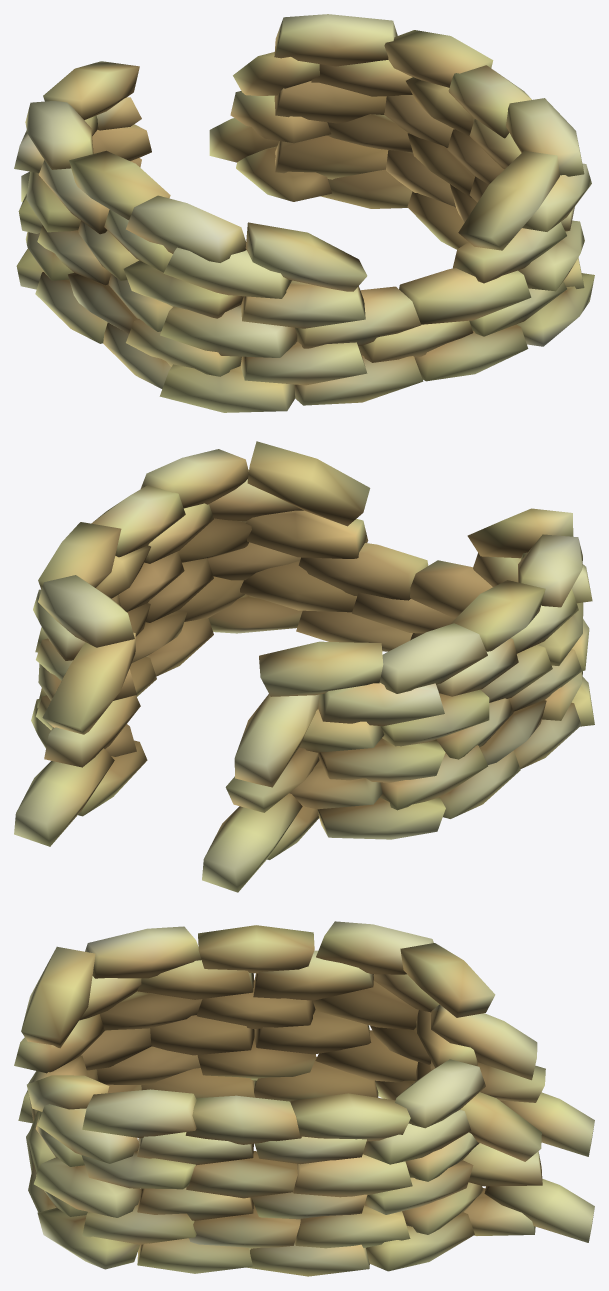
The model's file is sandbags_01_nest_a.dae.
The picture shows the model from 3 angles, top to bottom: view 1: azimuth 30°, elevation 25°; view 2: azimuth 150°, elevation 25°; view 3: azimuth 270°, elevation 25°; orthographic projection. The views are drawn at different scales.
Visible parts, largest first — view 1: sandbagsNA10; view 2: sandbagsNA10; view 3: sandbagsNA10.
Part boxes in pixels (<box>): sandbagsNA10: <box>14,14,594,412</box>; sandbagsNA10: <box>14,441,594,892</box>; sandbagsNA10: <box>14,921,594,1276</box>.
Size of what is drawn, in the model's own units: 2.78 by 3.45 by 1.17.
